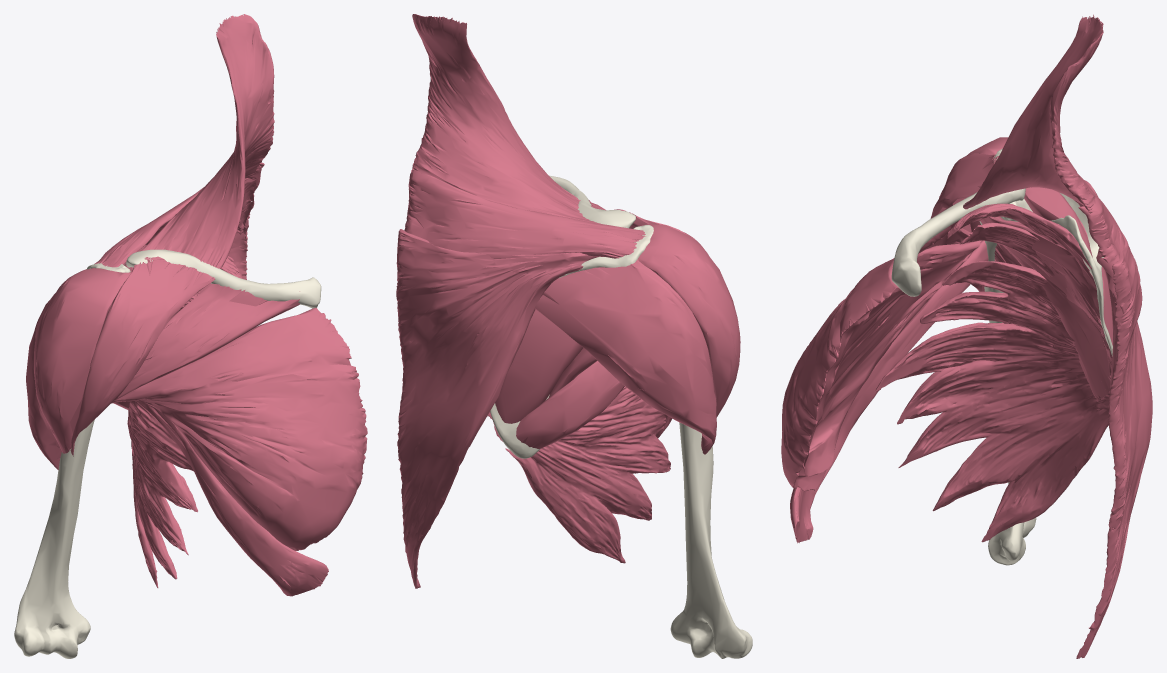
The model's file is shoulder.glb.
3 views of the same model, side by side, from view 1: azimuth 30°, elevation 25°; view 2: azimuth 150°, elevation 25°; view 3: azimuth 270°, elevation 25° (orthographic). The views are drawn at different scales.
Visible parts, largest first — view 1: pectoralis-major, deltoid, trapezius, humerus, serratus-anterior, clavicle; view 2: trapezius, deltoid, serratus-anterior, humerus, infraspinatus, teres-major, scapula, clavicle, teres-minor; view 3: serratus-anterior, pectoralis-major, trapezius, subscapularis, clavicle, deltoid, scapula, humerus, supraspinatus.
Part boxes in pixels (bbox=[...]): pectoralis-major: bbox=[111, 283, 367, 596]; deltoid: bbox=[26, 256, 215, 469]; trapezius: bbox=[94, 14, 274, 293]; humerus: bbox=[14, 419, 94, 658]; serratus-anterior: bbox=[127, 256, 241, 587]; clavicle: bbox=[126, 249, 321, 308]; trapezius: bbox=[396, 14, 645, 588]; deltoid: bbox=[535, 202, 740, 454]; serratus-anterior: bbox=[487, 386, 670, 563]; humerus: bbox=[670, 422, 752, 658]; infraspinatus: bbox=[495, 309, 582, 423]; teres-major: bbox=[516, 361, 624, 448]; scapula: bbox=[490, 225, 653, 458]; clavicle: bbox=[549, 175, 635, 228]; teres-minor: bbox=[549, 348, 597, 397]; serratus-anterior: bbox=[875, 203, 1112, 542]; pectoralis-major: bbox=[781, 220, 988, 543]; trapezius: bbox=[963, 14, 1152, 658]; subscapularis: bbox=[980, 216, 1110, 401]; clavicle: bbox=[891, 152, 1025, 296]; deltoid: bbox=[930, 137, 1008, 291]; scapula: bbox=[996, 148, 1112, 356]; humerus: bbox=[979, 221, 1036, 565]; supraspinatus: bbox=[1024, 187, 1092, 257].
Size of the model in its own units: 0.2447 by 0.477 by 0.2439.
